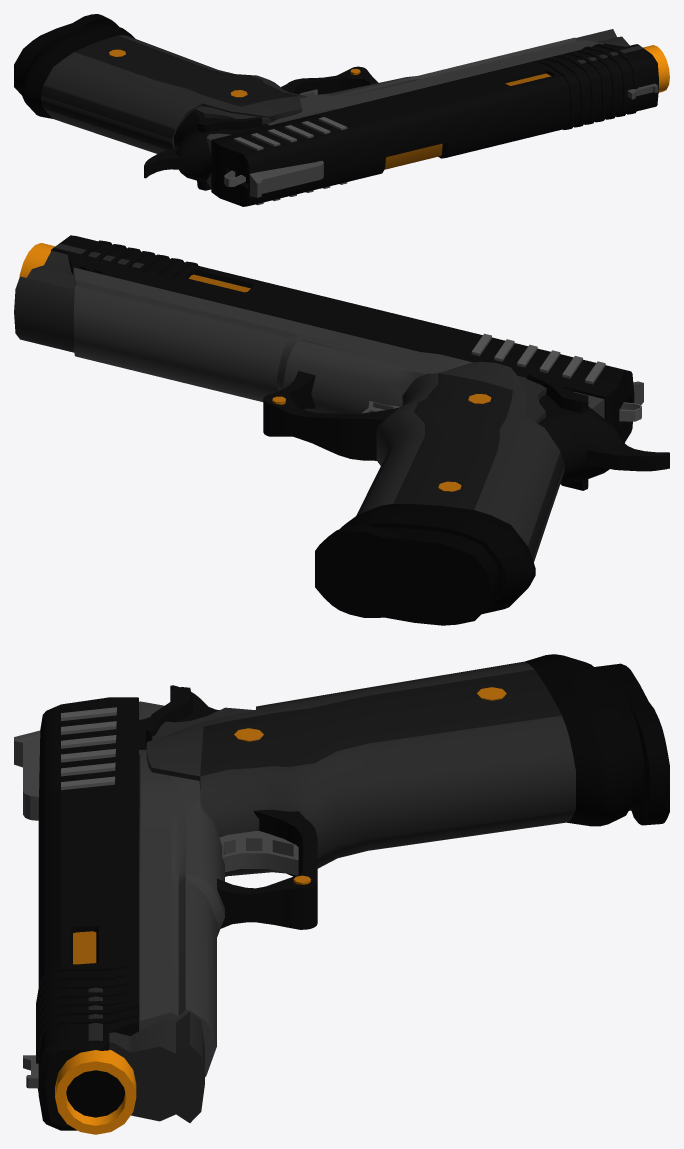
The model's file is tarran_tactical.glb.
The picture shows the model from 3 angles, top to bottom: view 1: azimuth 30°, elevation 25°; view 2: azimuth 150°, elevation 25°; view 3: azimuth 270°, elevation 25°; orthographic projection. The views are drawn at different scales.
Parts seen in each view (by area): view 1: Tarran_Tactical; view 2: Tarran_Tactical; view 3: Tarran_Tactical.
Part boxes in pixels (<box>): Tarran_Tactical: <box>14,14,669,206</box>; Tarran_Tactical: <box>14,235,669,625</box>; Tarran_Tactical: <box>14,654,669,1134</box>.
Bounding box in the file's own units: 13.27 × 1.8 × 8.89.
Materials: 2 (2 with a texture image).
